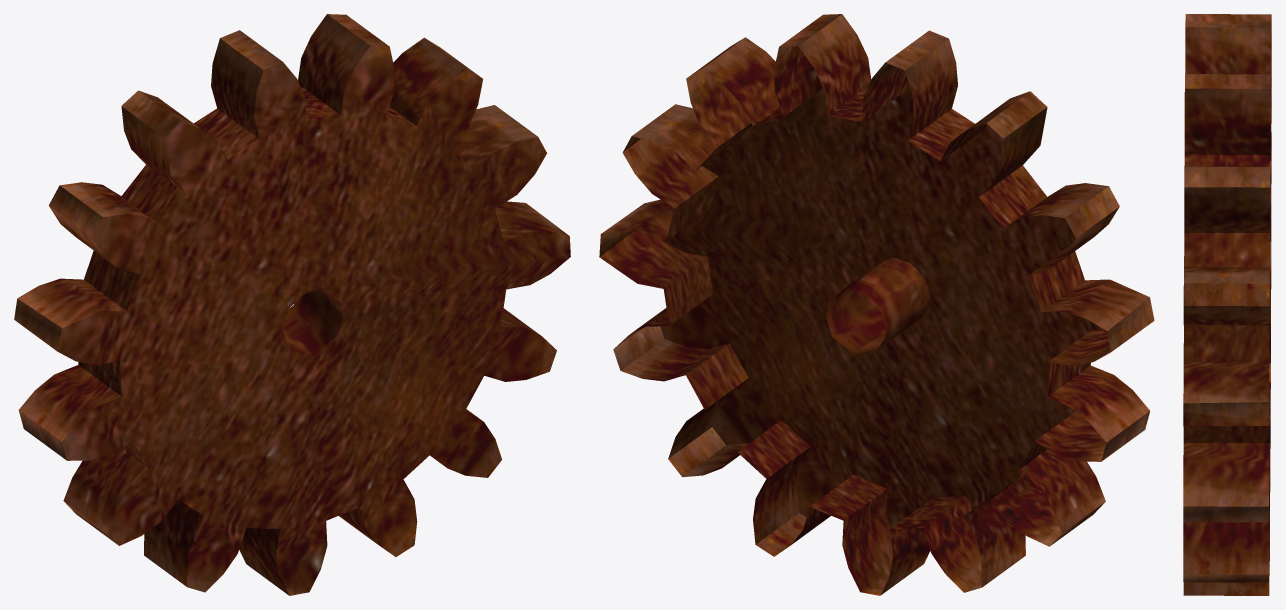
File: rusty_gears_02.glb
3 views of the same model, side by side, from view 1: azimuth 30°, elevation 25°; view 2: azimuth 150°, elevation 25°; view 3: azimuth 270°, elevation 25° (orthographic).
Visible parts, largest first — view 1: rusty_gears_02; view 2: rusty_gears_02; view 3: rusty_gears_02.
Part boxes in pixels (x1,y1,x2,y2): rusty_gears_02: (14,14,570,595); rusty_gears_02: (599,14,1154,595); rusty_gears_02: (1183,14,1271,595).
Size of what is drawn, in the model's own units: 0.0859 by 0.0859 by 0.0131.
1 material, 1 textured.
